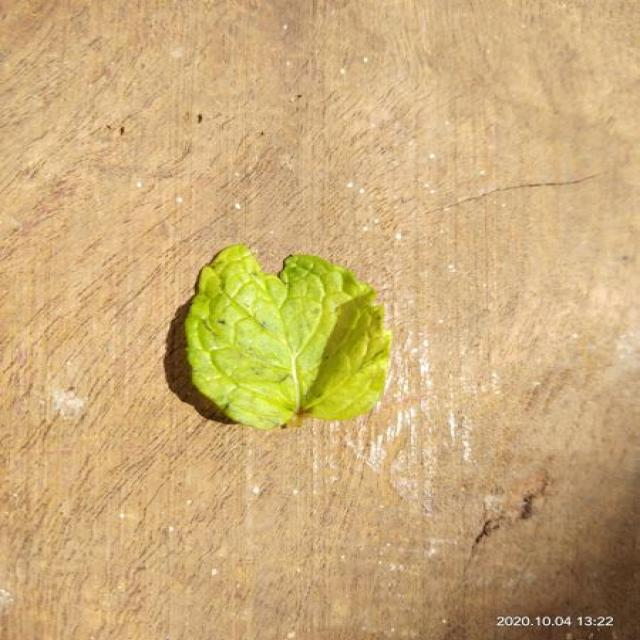mint: (185, 245, 392, 429)
